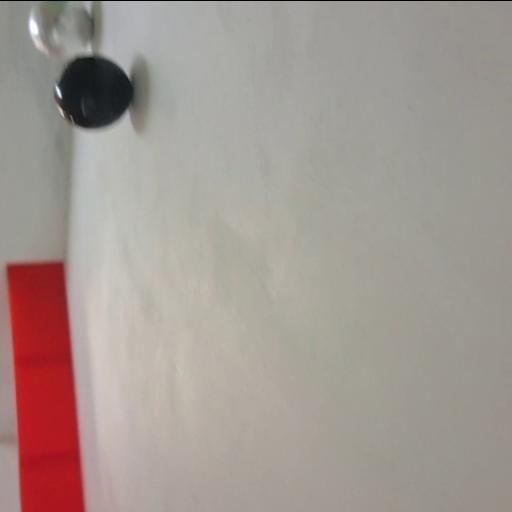alive: (27, 0, 93, 62)
dead: (52, 53, 132, 132)
